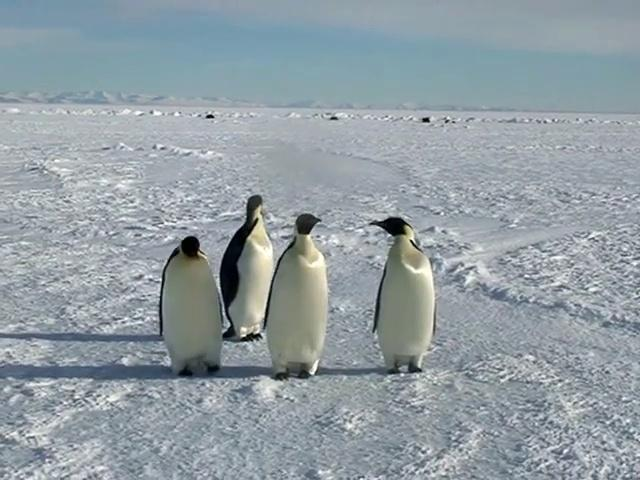animal: (371, 217, 435, 373)
